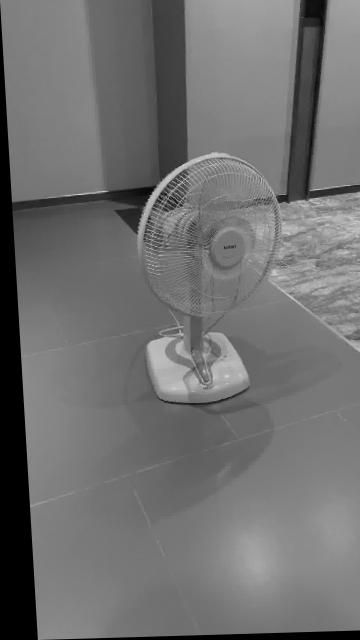Fan: (134, 154, 278, 406)
